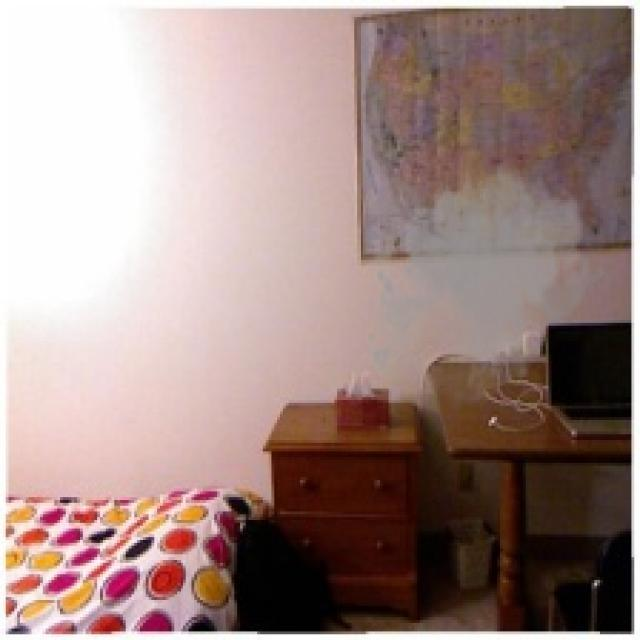Smoke: (361, 157, 608, 412)
